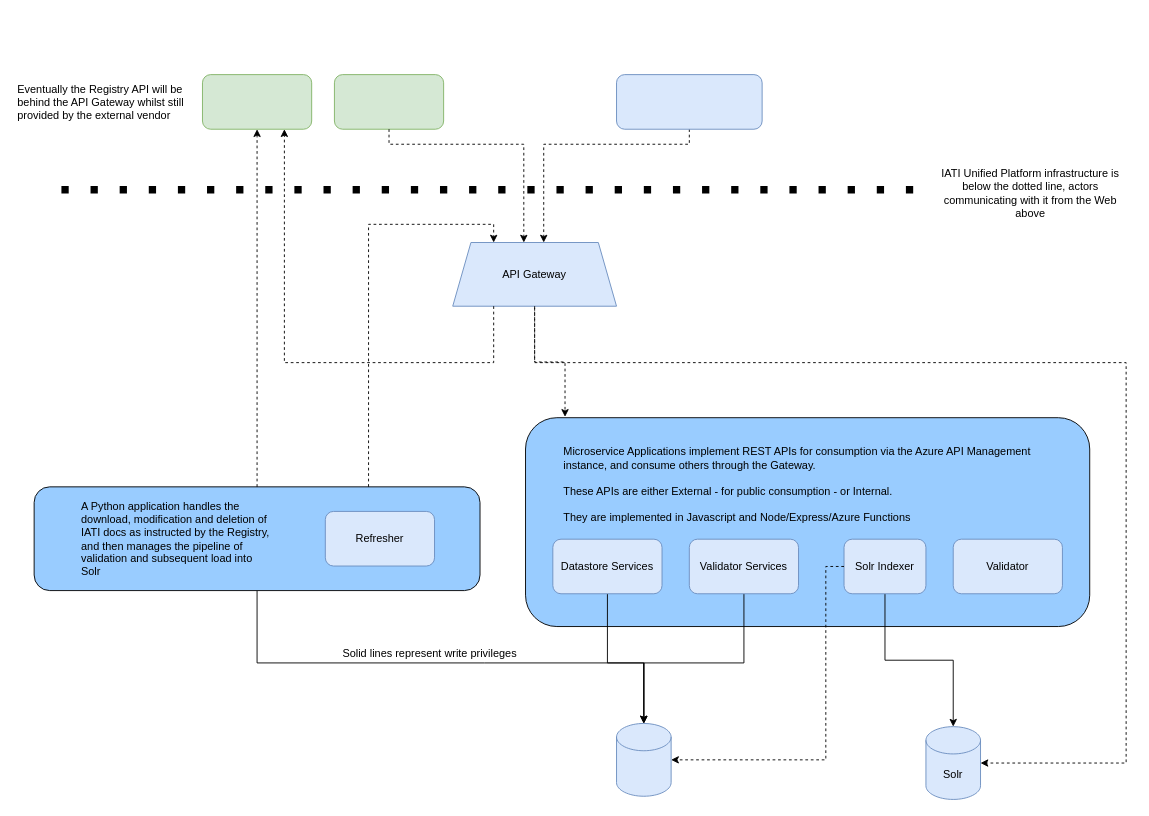
The diagram is 1149 pixels wide and 816 high, and some of its shapes have lost their labels. Here are the shapes that lost their labels. From the top down, the centre of each, then its label:
At [257,101]: "IATI Registry".
At [389,101]: "External IATI API Consumers".
At [689,101]: "Unified Platform Web Clients (To include Validator and Datastore GUIs)".
At [643,759]: "Postgres Server".
